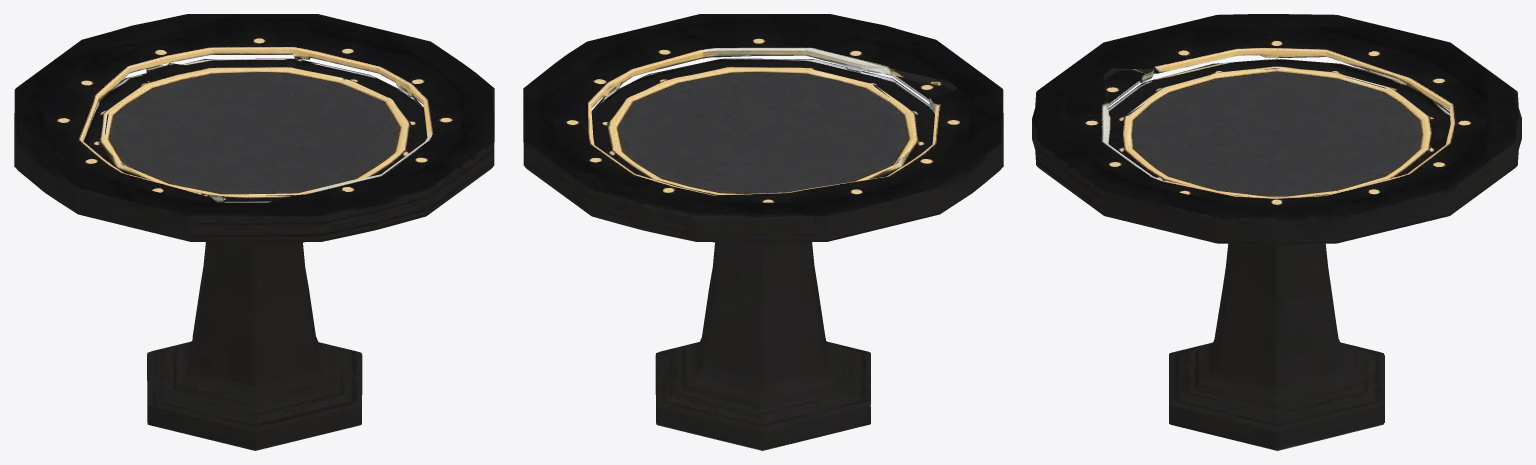
File: table_obsidian.glb
3 renders of one model, left to right at view 1: azimuth 30°, elevation 25°; view 2: azimuth 150°, elevation 25°; view 3: azimuth 270°, elevation 25°, orthographic.
Parts seen in each view (by area): view 1: mesh_node; view 2: mesh_node; view 3: mesh_node.
Part boxes in pixels (x1,y1,x2,y2): mesh_node: [14, 14, 494, 450]; mesh_node: [523, 14, 1003, 450]; mesh_node: [1032, 14, 1521, 450].
Size of the model in its own units: 1.89 by 1.21 by 1.89.
1 material, 1 textured.
